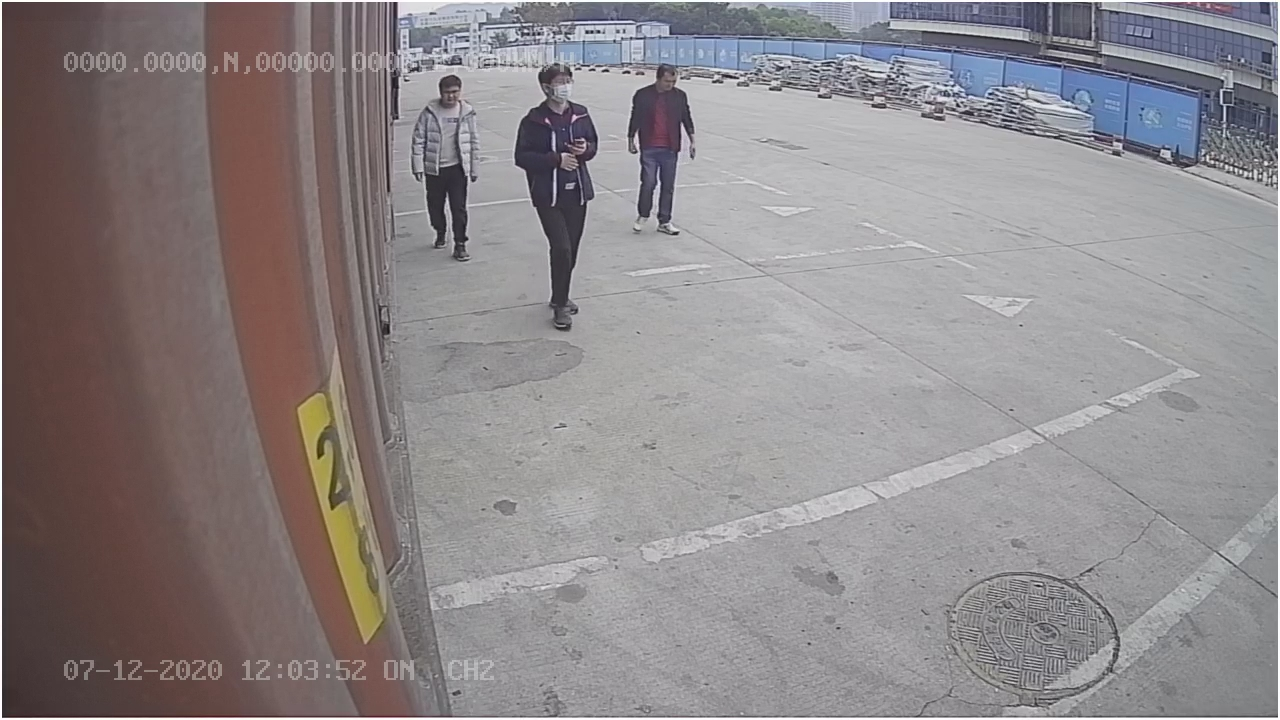person: (513, 57, 603, 332)
